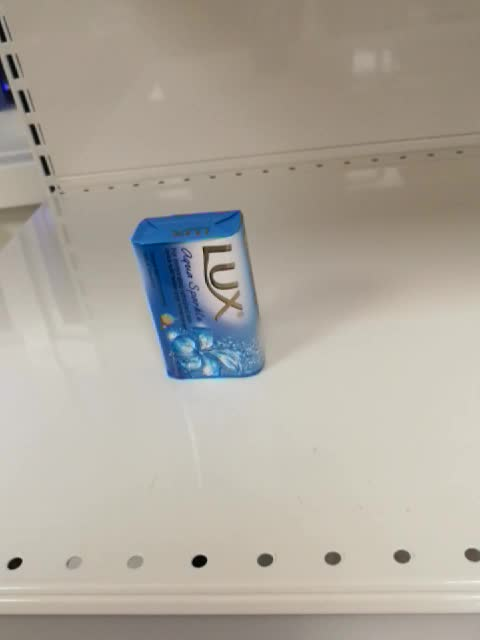soap: (127, 208, 269, 383)
